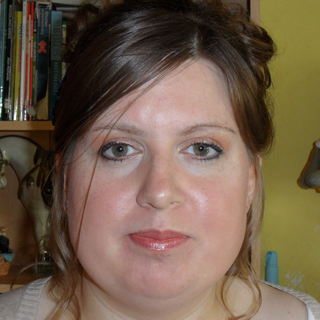eye: (171, 136, 230, 165), (94, 138, 146, 162)
